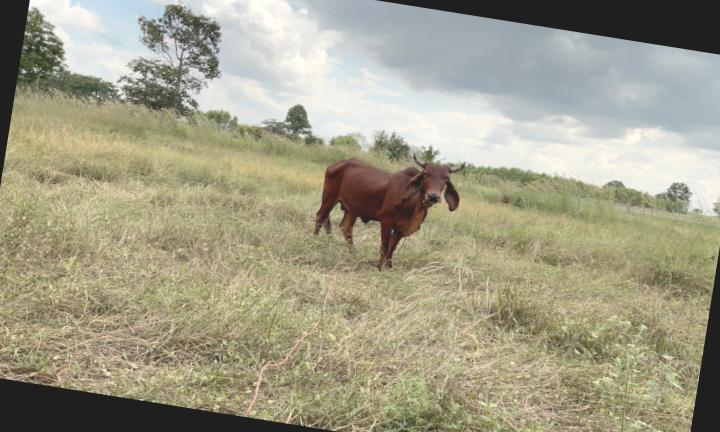Brahman: (315, 154, 465, 267)
